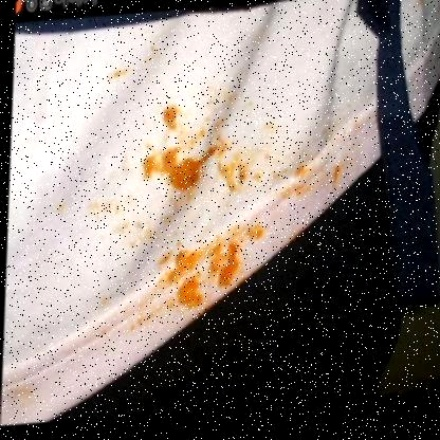kimchi: (145, 145, 221, 206), (197, 85, 245, 141), (53, 198, 129, 224), (227, 146, 270, 191), (225, 219, 274, 249), (169, 273, 203, 311), (212, 240, 240, 282), (168, 244, 203, 276), (154, 104, 186, 134), (116, 223, 152, 240), (288, 180, 310, 197), (330, 161, 343, 187), (110, 62, 132, 76), (296, 161, 311, 173), (260, 123, 274, 132)
